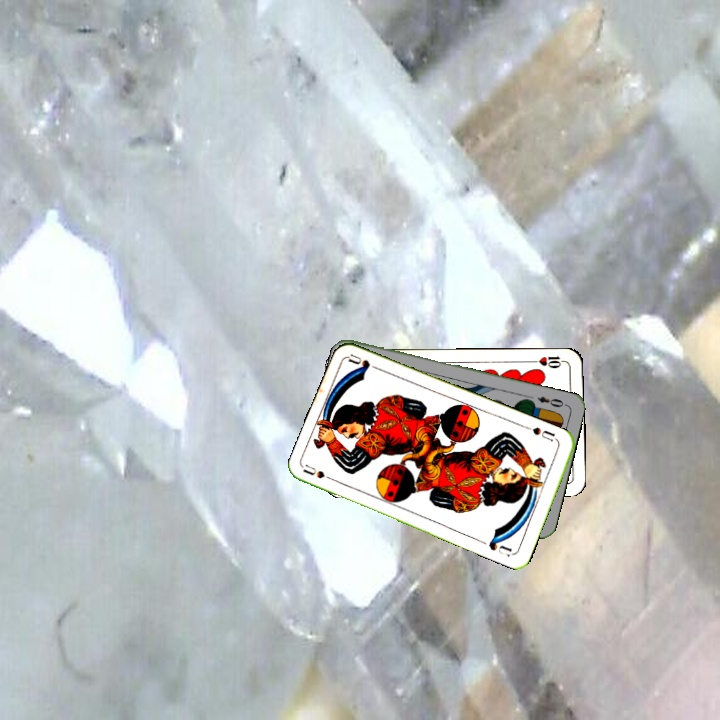EO: (533, 392, 566, 410)
H10: (527, 352, 568, 371)
SU: (300, 461, 340, 485), (522, 422, 561, 444)
